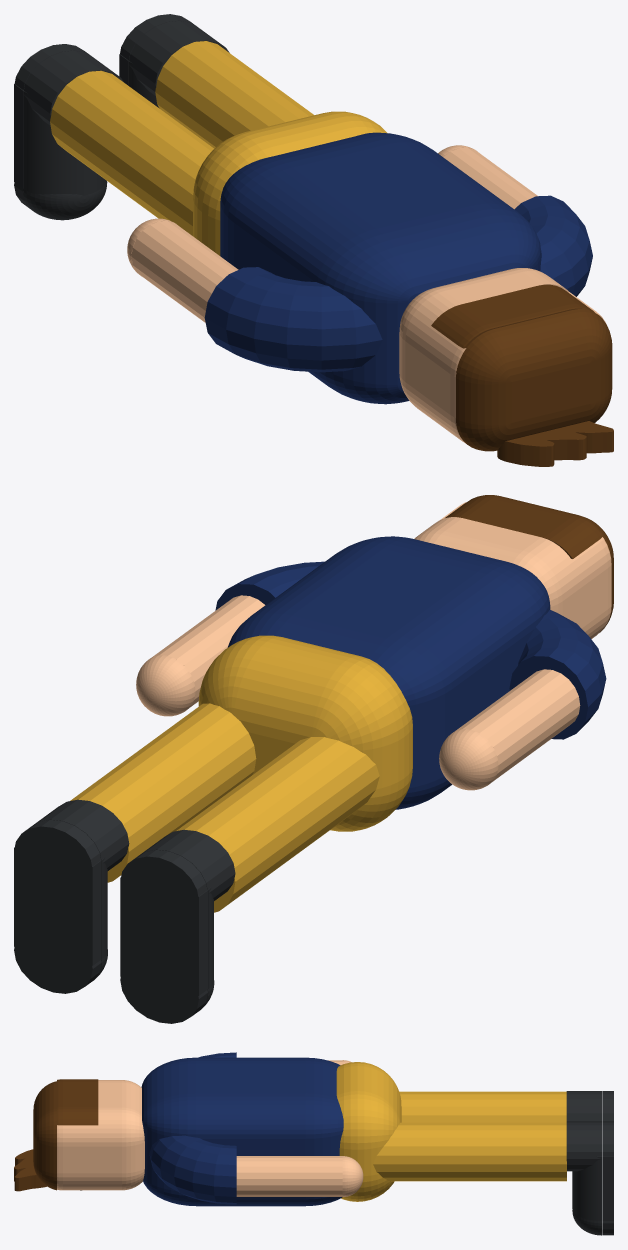
File: mike.obj
3 renders of one model, top to bottom at view 1: azimuth 30°, elevation 25°; view 2: azimuth 150°, elevation 25°; view 3: azimuth 270°, elevation 25°, orthographic. The views are drawn at different scales.
Visible parts, largest first — view 1: group_0_1650274, group_0_14789940, group_0_6306067, group_0_16500122, group_0_2829873; view 2: group_0_14789940, group_0_1650274, group_0_2829873, group_0_16500122, group_0_6306067; view 3: group_0_1650274, group_0_14789940, group_0_16500122, group_0_2829873, group_0_6306067.
Part boxes in pixels (box(x1,y1,x2,y2)): group_0_1650274: box(204, 132, 592, 404); group_0_14789940: box(50, 41, 387, 255); group_0_6306067: box(431, 284, 613, 466); group_0_16500122: box(127, 145, 606, 443); group_0_2829873: box(14, 14, 229, 220); group_0_14789940: box(70, 635, 412, 912); group_0_1650274: box(215, 536, 606, 809); group_0_2829873: box(14, 799, 235, 1023); group_0_16500122: box(136, 502, 611, 790); group_0_6306067: box(445, 495, 613, 632); group_0_1650274: box(141, 1052, 343, 1206); group_0_14789940: box(336, 1062, 566, 1201); group_0_16500122: box(57, 1060, 363, 1196); group_0_2829873: box(566, 1091, 613, 1235); group_0_6306067: box(14, 1079, 98, 1191).
Bounding box in the file's own units: 47.5 × 26 × 102.
